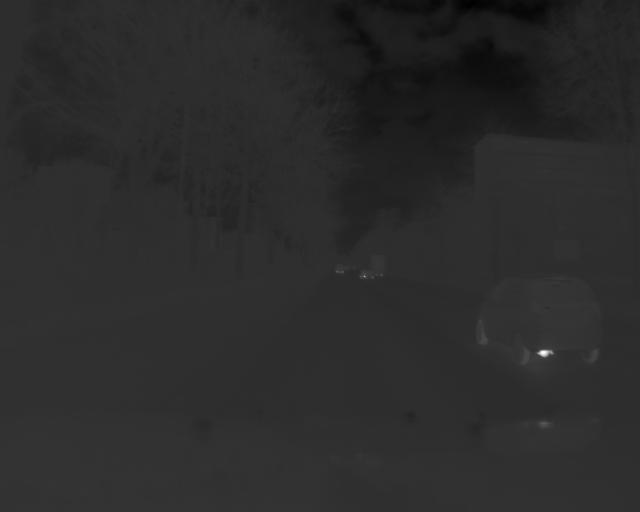car: (469, 274, 606, 366)
